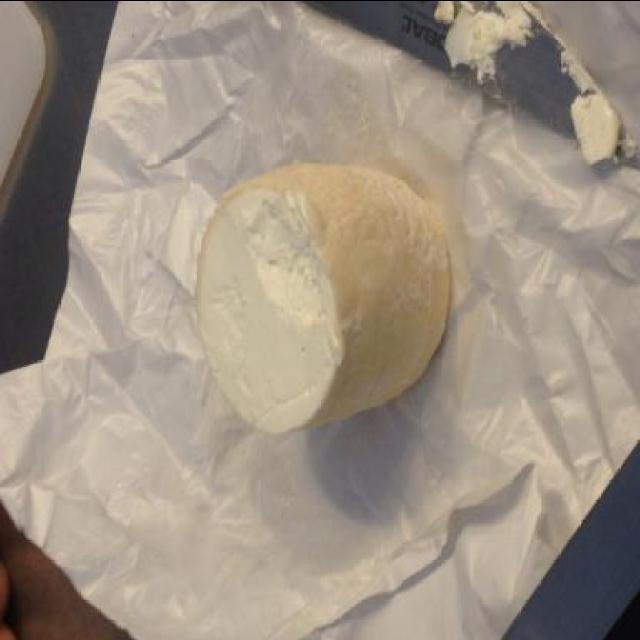Cheese: (195, 156, 454, 438)
